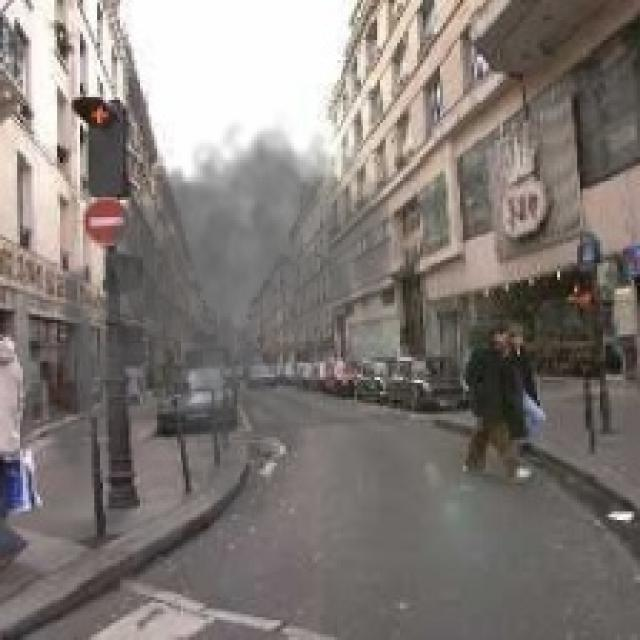smoke: (34, 109, 403, 514)
